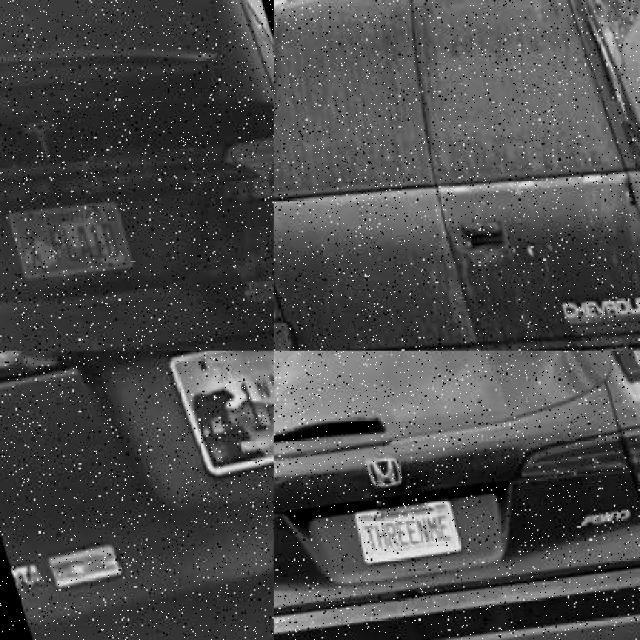LicensePlate: (159, 350, 273, 474), (0, 191, 127, 274), (347, 493, 457, 562)
